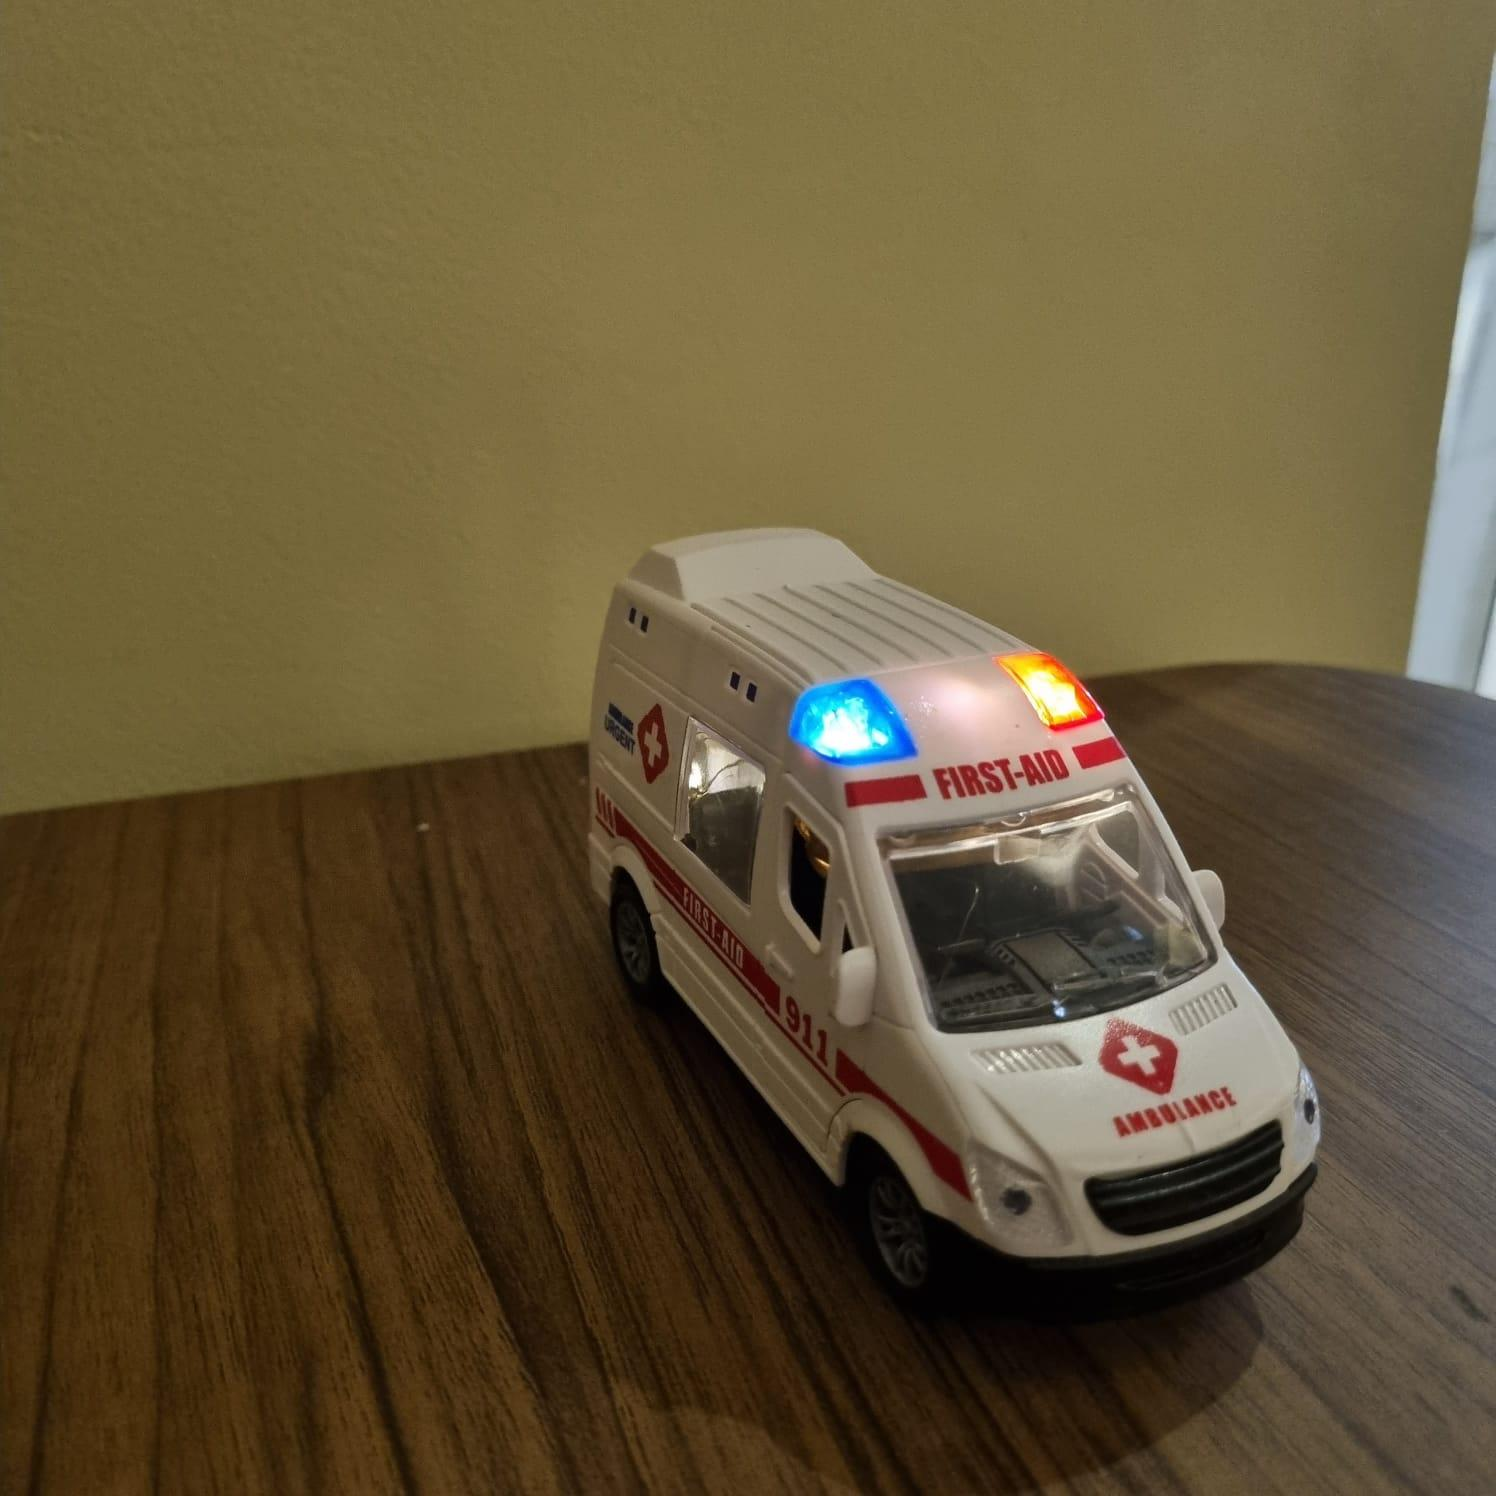ambulance_on: (586, 525, 1323, 1300)
